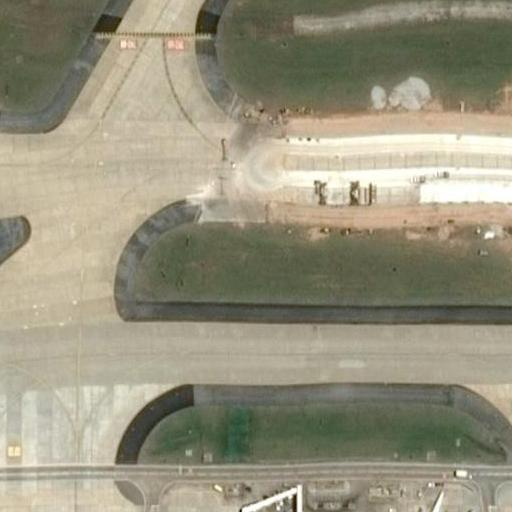Aircraft: (386, 491, 477, 512)
